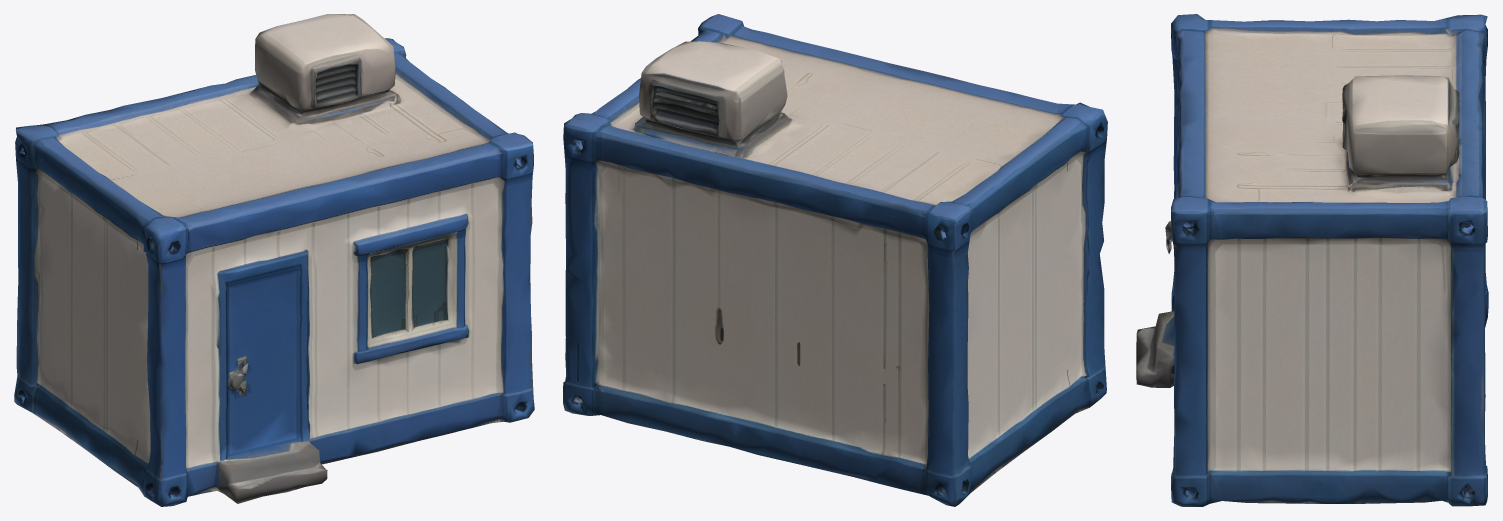
Rendered from Prop_Container.fbx.
3 views of the same model, side by side, from view 1: azimuth 30°, elevation 25°; view 2: azimuth 150°, elevation 25°; view 3: azimuth 270°, elevation 25° (orthographic). The views are drawn at different scales.
Parts seen in each view (by area): view 1: texture_mapping; view 2: texture_mapping; view 3: texture_mapping.
Boxes of the visible parts, x1,y1,x2,y2 form: texture_mapping: (14,14,534,506); texture_mapping: (563,14,1107,506); texture_mapping: (1136,14,1488,506).
Bounding box in the file's own units: 95.55 × 81.01 × 71.54.
1 material, 1 textured.
